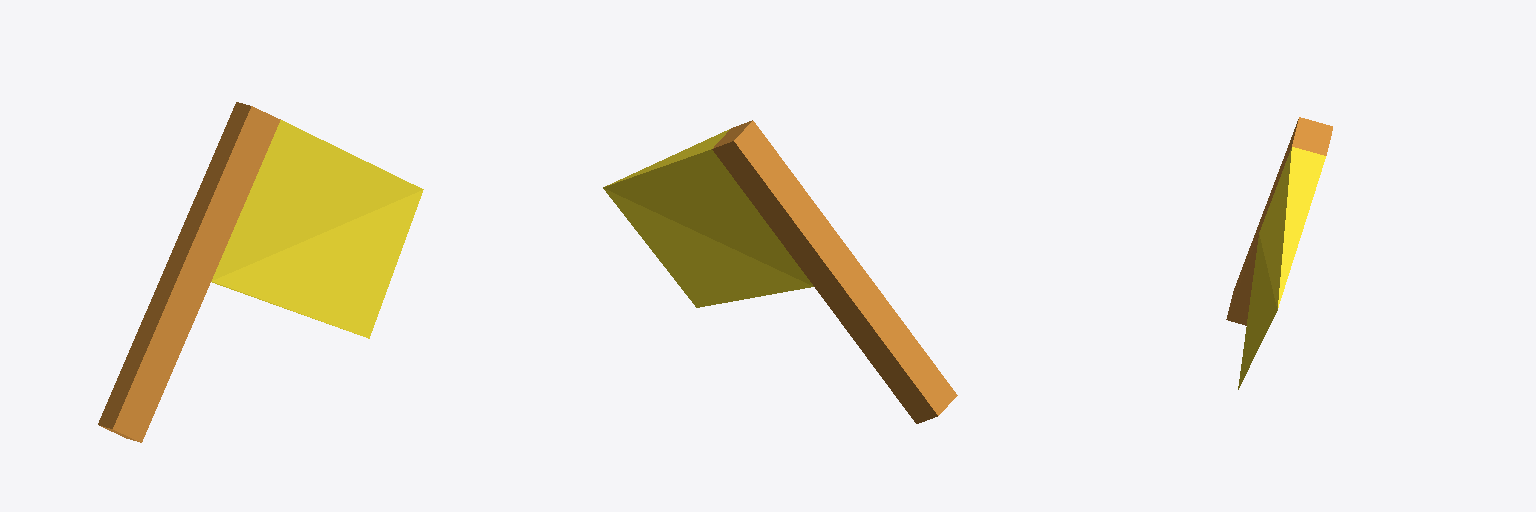
The model's file is YellowFlag.obj.
The picture shows the model from 3 angles: view 1: azimuth 30°, elevation 25°; view 2: azimuth 150°, elevation 25°; view 3: azimuth 270°, elevation 25°; orthographic projection.
Visible parts, largest first — view 1: group[number redacted]; view 2: group[number redacted]; view 3: group[number redacted].
Boxes of the visible parts, x1,y1,x2,y2 form: group[number redacted]: [98, 102, 423, 442]; group[number redacted]: [603, 120, 957, 423]; group[number redacted]: [1226, 117, 1332, 389].
Bounding box in the file's own units: 0.6904 × 0.5611 × 0.1928.